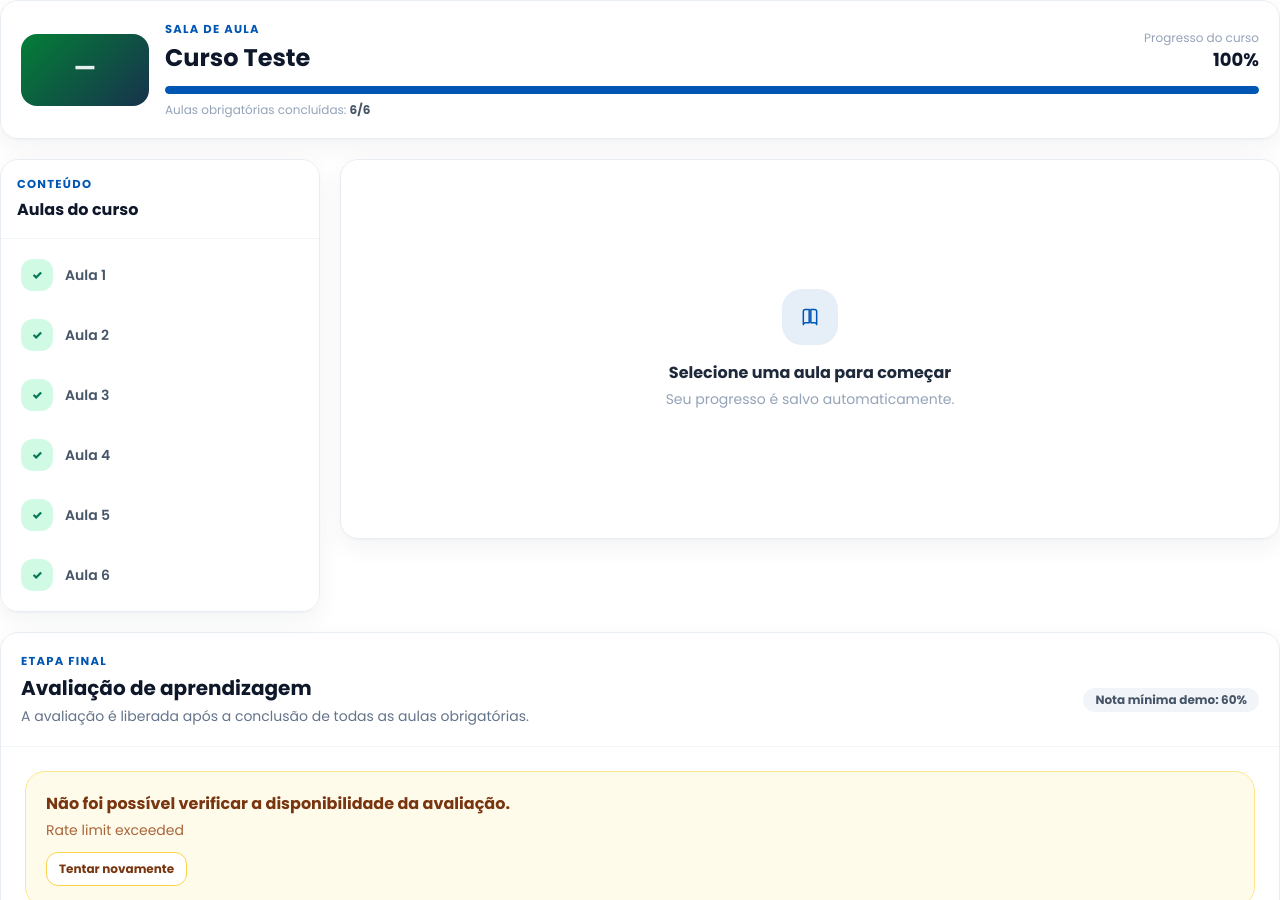
it: CourseLearn — fluxo da avaliação final › retry bem-sucedido faz a avaliação aparecer
The width and height of the screenshot is (1280, 900).
Click the button with test id "assessment-retry-button" at (117, 869), box x1=46 y1=852 x2=187 y2=886
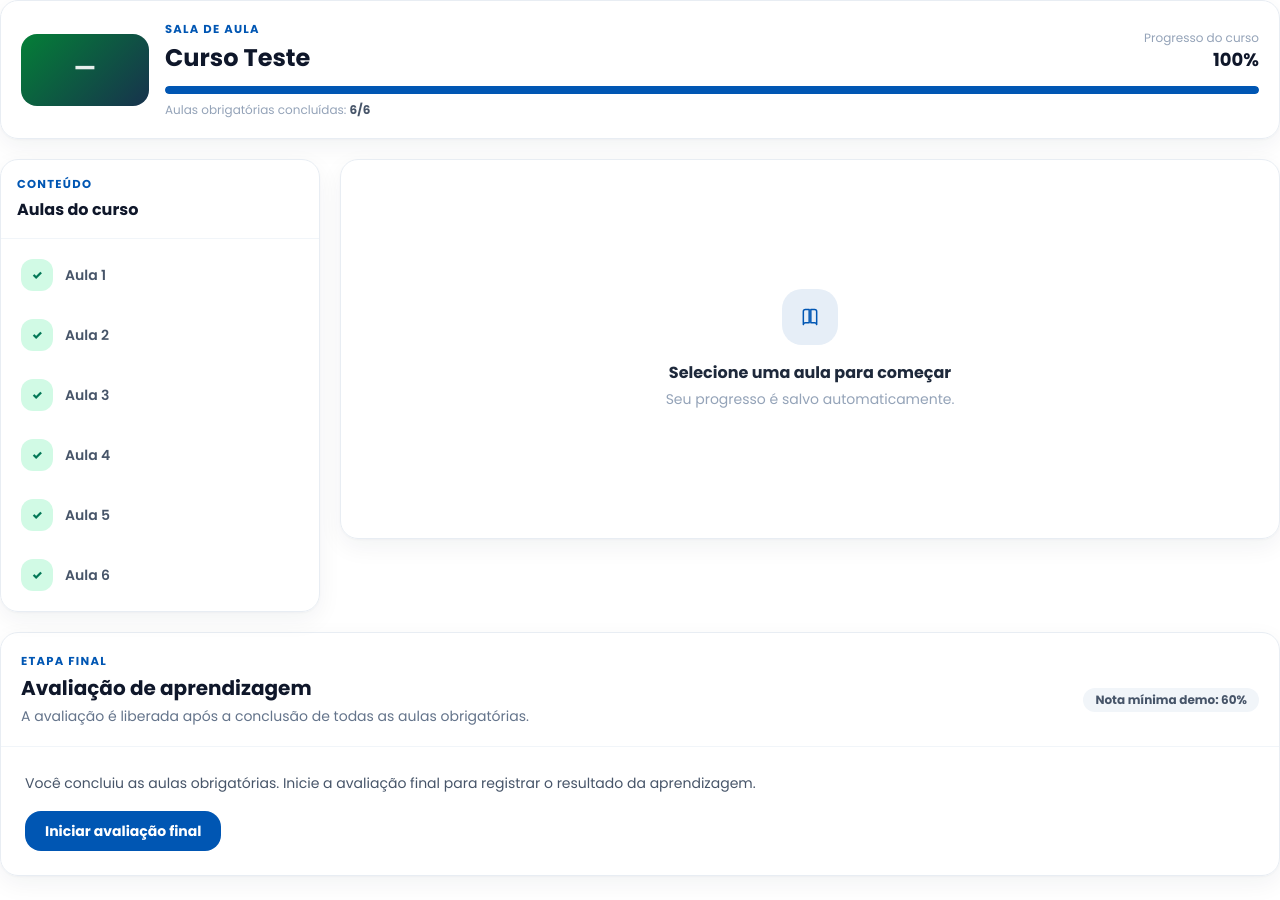
Check: the button with test id "assessment-start-button" is shown, box x1=25 y1=811 x2=221 y2=851
